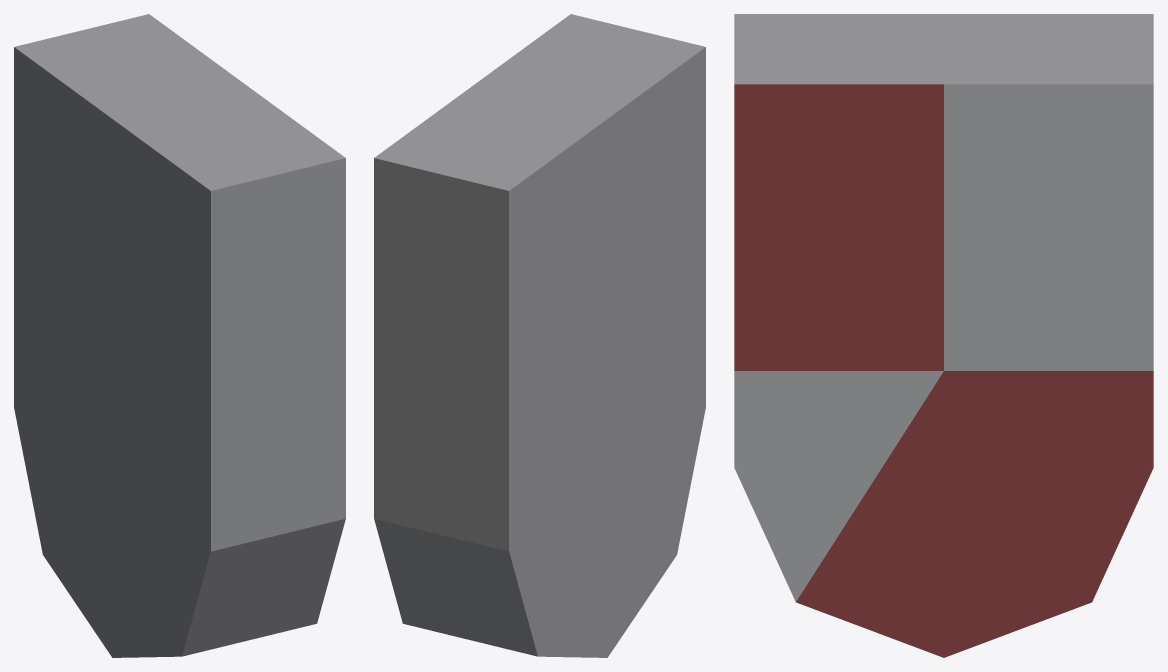
Rendered from Shield_Red_01.obj.
The picture shows the model from 3 angles, left to right: view 1: azimuth 30°, elevation 25°; view 2: azimuth 150°, elevation 25°; view 3: azimuth 270°, elevation 25°; orthographic projection. The views are drawn at different scales.
Visible parts, largest first — view 1: Mesh1_Shield_Red_Model; view 2: Mesh1_Shield_Red_Model; view 3: Mesh1_Shield_Red_Model.
Part boxes in pixels (x1,y1,x2,y2): Mesh1_Shield_Red_Model: (14,14,345,657); Mesh1_Shield_Red_Model: (374,14,705,657); Mesh1_Shield_Red_Model: (734,14,1153,657).
Size of the model in its own units: 0.2 by 0.7625 by 0.5047.
